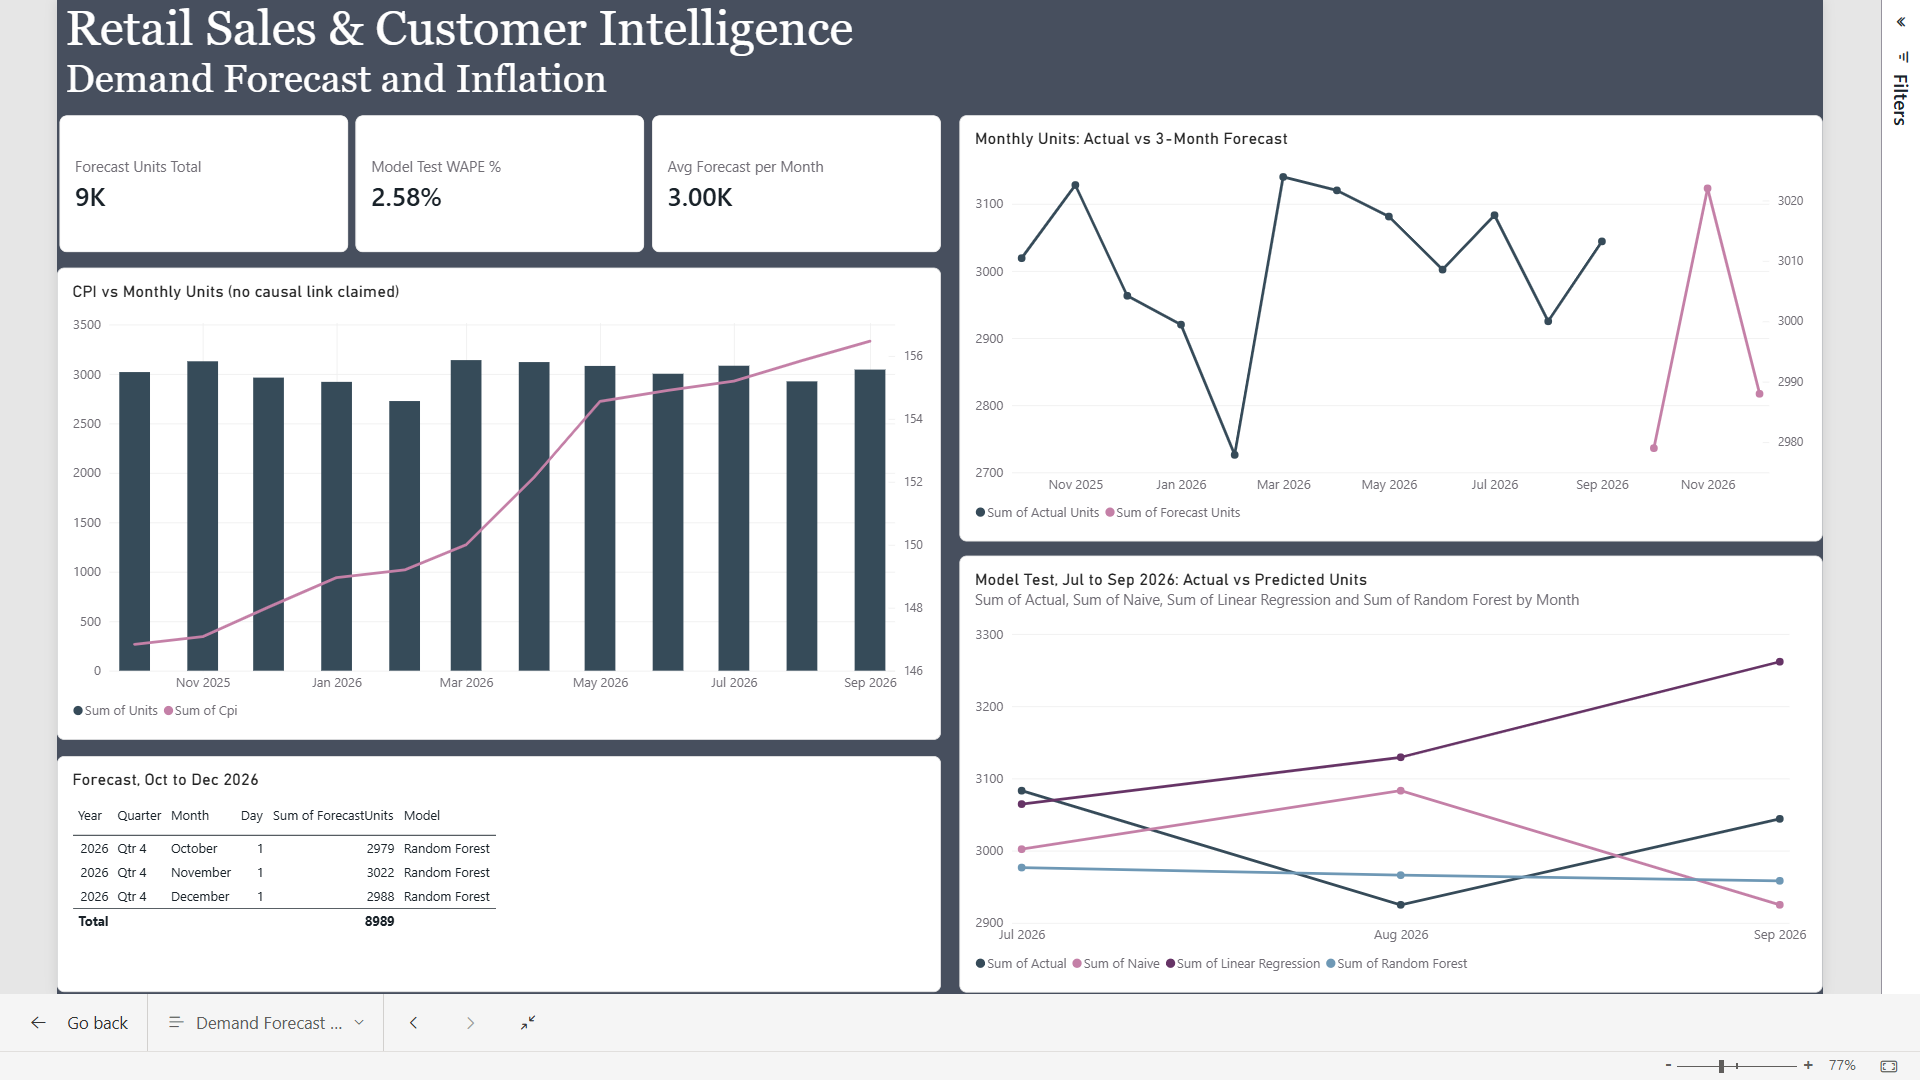

This screenshot's page, from the dashboard's own definition file:
{"tool":"powerbi","page":{"name":"Demand Forecast & Inflation","canvas":[1920,1080],"ordinal":3},"visuals":[{"type":"textbox","box":[9.1,0,883.5,129.5],"z":0},{"type":"lineChart","title":"Monthly Units: Actual vs 3-Month Forecast","fields":{"Category":["DemandChart.Month"],"Y":["Sum(DemandChart.Actual Units)"],"Y2":["Sum(DemandChart.Forecast Units)"]},"box":[981.2,124.9,938,463.3],"z":1},{"type":"lineChart","title":"Model Test, Jul to Sep 2026: Actual vs Predicted Units","fields":{"Category":["powerbi_model_test.Month"],"Y":["Sum(powerbi_model_test.Actual)","Sum(powerbi_model_test.Naive)","Sum(powerbi_model_test.Linear Regression)","Sum(powerbi_model_test.Random Forest)"]},"box":[981.2,604.2,938,474.7],"z":2},{"type":"tableEx","title":"Forecast, Oct to Dec 2026","fields":{"Values":["powerbi_forecast.Month.Variation.Date Hierarchy.Year","powerbi_forecast.Month.Variation.Date Hierarchy.Quarter","powerbi_forecast.Month.Variation.Date Hierarchy.Month","powerbi_forecast.Month.Variation.Date Hierarchy.Day","Sum(powerbi_forecast.ForecastUnits)","powerbi_forecast.Model"]},"box":[0,822.2,960.8,256.7],"z":3},{"type":"lineClusteredColumnComboChart","title":"CPI vs Monthly Units (no causal link claimed)","fields":{"Category":["CpiDemand.Date"],"Y":["Sum(CpiDemand.Units)"],"Y2":["Sum(CpiDemand.Cpi)"]},"box":[0,290.7,960.8,513.3],"z":4},{"type":"cardVisual","fields":{"Data":["powerbi_forecast.Forecast Units Total","powerbi_forecast.Model Test WAPE %","powerbi_forecast.Avg Forecast per Month"]},"box":[2.3,124.9,958.5,149.9],"z":5}]}

Visuals, with their boxes on the page's 1920x1080 design canvas (x1, y1, x2, y2). These are canvas units, not pixel positions in the 1920x1080 screenshot, which may show the page scaled, cropped or inside an application window:
textbox: Rect(9, 0, 893, 130)
"Monthly Units: Actual vs 3-Month Forecast" lineChart: Rect(981, 125, 1919, 588)
"Model Test, Jul to Sep 2026: Actual vs Predicted Units" lineChart: Rect(981, 604, 1919, 1079)
"Forecast, Oct to Dec 2026" tableEx: Rect(0, 822, 961, 1079)
"CPI vs Monthly Units (no causal link claimed)" lineClusteredColumnComboChart: Rect(0, 291, 961, 804)
cardVisual - powerbi_forecast.Forecast Units Total x powerbi_forecast.Model Test WAPE %: Rect(2, 125, 961, 275)
